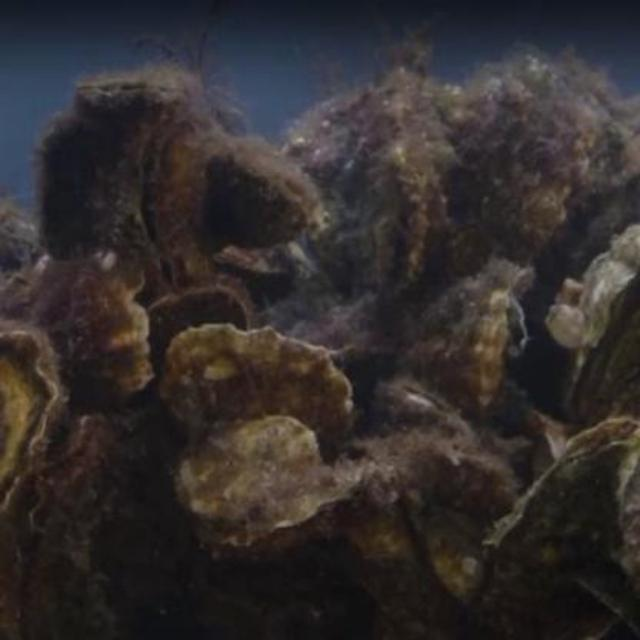Oyster-Closed: (285, 89, 427, 302), (483, 414, 637, 602), (175, 412, 336, 553), (0, 266, 152, 412), (161, 321, 354, 435), (121, 95, 225, 300), (414, 264, 529, 406), (208, 139, 329, 251), (75, 62, 210, 112)
Oyster-Open: (0, 322, 66, 503)
